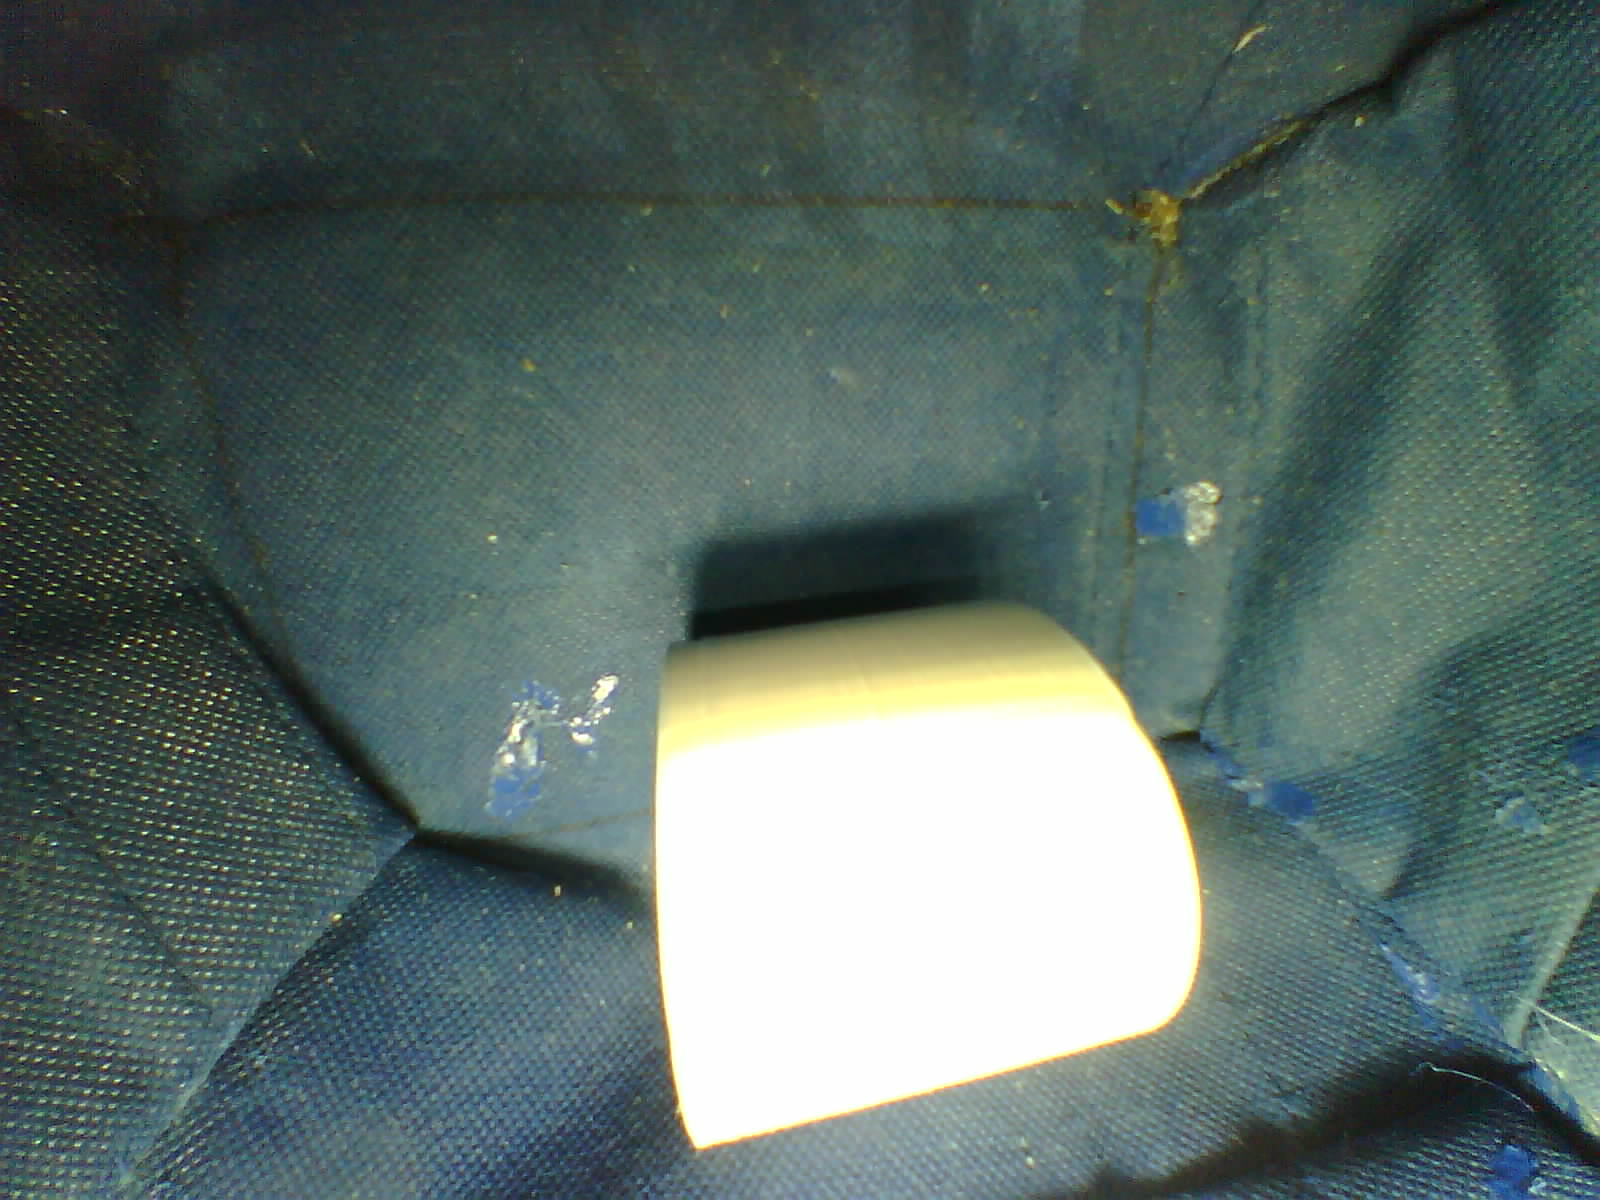cylinder-hard: (640, 579, 1232, 1177)
